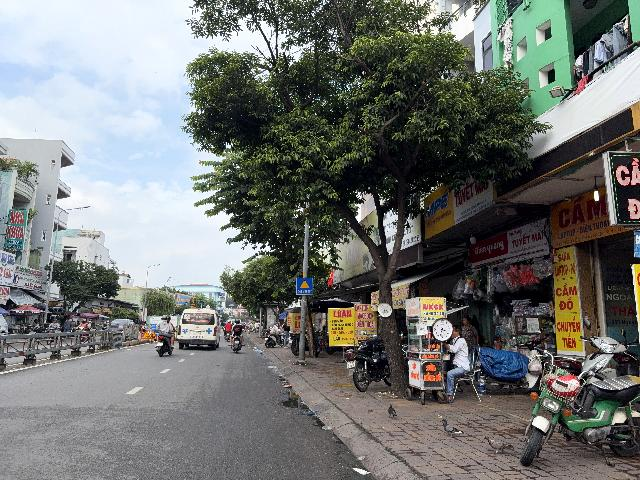khu-vuc-cho-phia-truoc: (296, 278, 313, 295)
